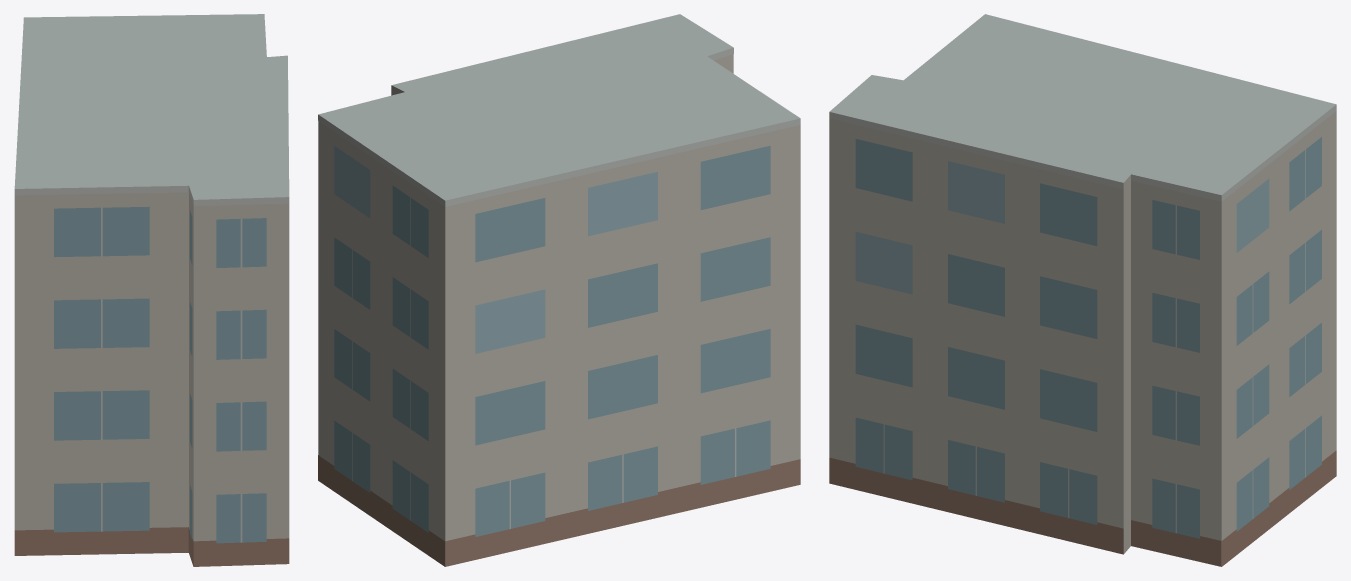
Rendered from survey-upis-32952494.glb.
3 views of the same model, side by side, from view 1: azimuth 30°, elevation 25°; view 2: azimuth 150°, elevation 25°; view 3: azimuth 270°, elevation 25° (orthographic).
Parts seen in each view (by area): view 1: survey-upis-32952494.tmp; view 2: survey-upis-32952494.tmp; view 3: survey-upis-32952494.tmp.
Part boxes in pixels (left/top/right/bottom): survey-upis-32952494.tmp: left=14, top=14, right=289, bottom=566; survey-upis-32952494.tmp: left=318, top=14, right=800, bottom=566; survey-upis-32952494.tmp: left=829, top=14, right=1336, bottom=566.
Bounding box in the file's own units: 14.75 × 14.1 × 17.45.
